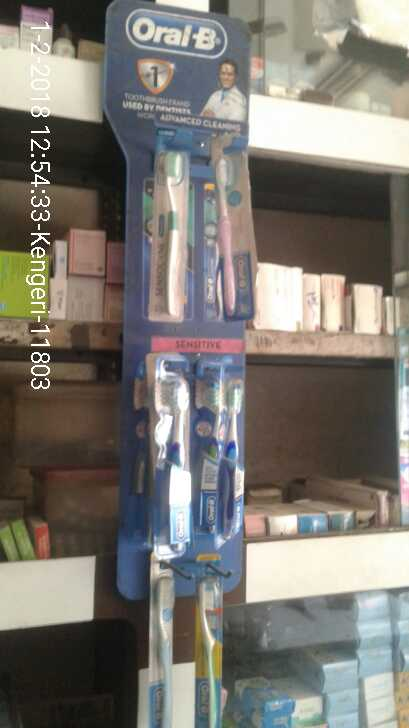oralb: (199, 364, 247, 530), (154, 139, 195, 326), (156, 368, 191, 543), (210, 159, 245, 327)
